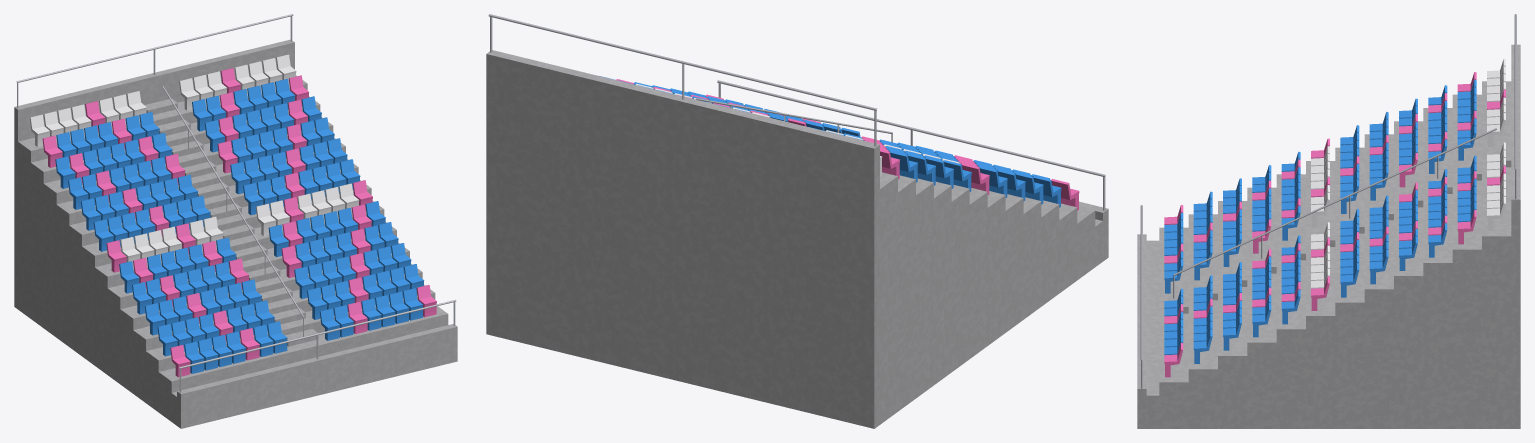
File: prop_stadium_stand.glb
3 renders of one model, left to right at view 1: azimuth 30°, elevation 25°; view 2: azimuth 150°, elevation 25°; view 3: azimuth 270°, elevation 25°, orthographic. The views are drawn at different scales.
Parts seen in each view (by area): view 1: StadiumStand, StadiumStand_Tex; view 2: StadiumStand_Tex, StadiumStand; view 3: StadiumStand_Tex, StadiumStand.
Boxes of the visible parts, x1,y1,x2,y2 form: StadiumStand: (16, 14, 456, 392); StadiumStand_Tex: (14, 39, 457, 428); StadiumStand_Tex: (486, 50, 1108, 428); StadiumStand: (488, 14, 1105, 210); StadiumStand_Tex: (1137, 44, 1520, 428); StadiumStand: (1140, 14, 1516, 388).
Bounding box in the file's own units: 10 × 7.83 × 10.45.
Materials: 5 (1 with a texture image).
